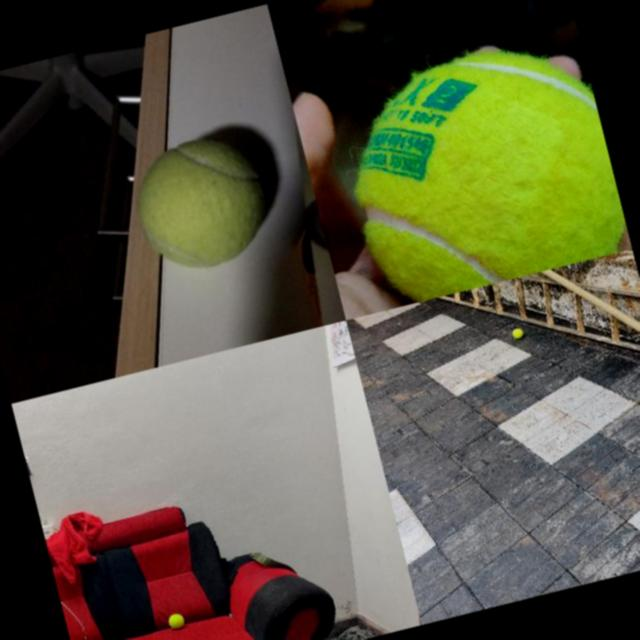tennis-ball: (328, 28, 630, 310), (123, 125, 280, 282), (166, 612, 185, 630), (511, 326, 524, 338)
